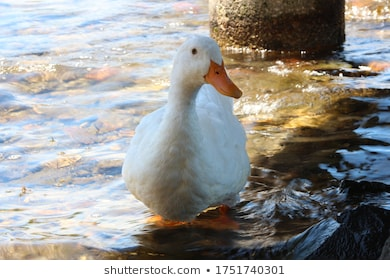duck: (114, 30, 266, 231)
